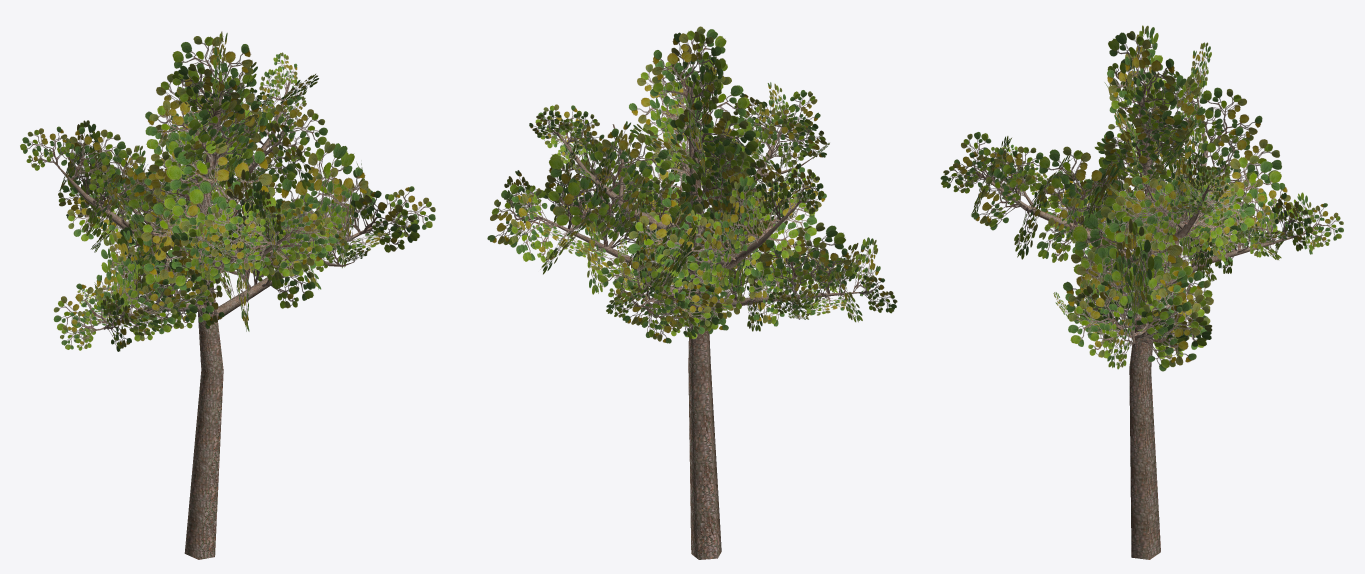
Rendered from tree.glb.
The picture shows the model from 3 angles, left to right: view 1: azimuth 30°, elevation 25°; view 2: azimuth 150°, elevation 25°; view 3: azimuth 270°, elevation 25°; orthographic projection.
Visible parts, largest first — view 1: Trunk, Branch0015, Branch00122, Branch004, Branch0054, Branch0042, Branch0019, Branch003, Branch00124, Branch008, Branch0055, Branch0059 (+48 smaller); view 2: Trunk, Branch004, Branch00123, Branch00124, Branch0073, Branch0011, Branch00122, Branch0031, Branch0049, Branch0053, Branch0064, Branch0050 (+48 smaller); view 3: Trunk, Branch0033, Branch0034, Branch00123, Branch0020, Branch0019, Branch0063, Branch00125, Branch004, Branch0049, Branch0037, Branch0068 (+34 smaller).
Part boxes in pixels (left/top/right/bottom): Trunk: left=184, top=90, right=223, bottom=559; Branch0015: left=166, top=140, right=281, bottom=251; Branch00122: left=172, top=36, right=256, bottom=101; Branch004: left=281, top=141, right=354, bottom=240; Branch0054: left=183, top=100, right=259, bottom=165; Branch0042: left=141, top=198, right=217, bottom=290; Branch0019: left=350, top=190, right=419, bottom=252; Branch003: left=300, top=167, right=375, bottom=237; Branch00124: left=145, top=87, right=213, bottom=175; Branch008: left=58, top=127, right=127, bottom=183; Branch0055: left=172, top=63, right=244, bottom=124; Branch0059: left=261, top=98, right=327, bottom=161; Trunk: left=688, top=86, right=721, bottom=559; Branch004: left=548, top=139, right=650, bottom=246; Branch00123: left=650, top=26, right=727, bottom=109; Branch00124: left=670, top=100, right=758, bottom=170; Branch0073: left=756, top=222, right=845, bottom=294; Branch0011: left=590, top=128, right=671, bottom=198; Branch00122: left=667, top=31, right=725, bottom=110; Branch0031: left=511, top=191, right=557, bottom=262; Branch0049: left=722, top=176, right=765, bottom=253; Branch0053: left=628, top=60, right=700, bottom=139; Branch0064: left=749, top=184, right=817, bottom=258; Branch0050: left=663, top=215, right=735, bottom=284; Trunk: left=1129, top=98, right=1160, bottom=559; Branch0033: left=1073, top=206, right=1187, bottom=315; Branch0034: left=1035, top=146, right=1118, bottom=225; Branch00123: left=1107, top=31, right=1177, bottom=115; Branch0020: left=1134, top=296, right=1199, bottom=371; Branch0019: left=1068, top=284, right=1133, bottom=358; Branch0063: left=1108, top=176, right=1187, bottom=250; Branch00125: left=1102, top=110, right=1185, bottom=169; Branch004: left=1114, top=218, right=1154, bottom=324; Branch0049: left=1188, top=87, right=1262, bottom=152; Branch0037: left=971, top=164, right=1034, bottom=230; Branch0068: left=1199, top=126, right=1281, bottom=197.
Bounding box in the file's own units: 419 × 531 × 380.
2 materials, 2 textured.
